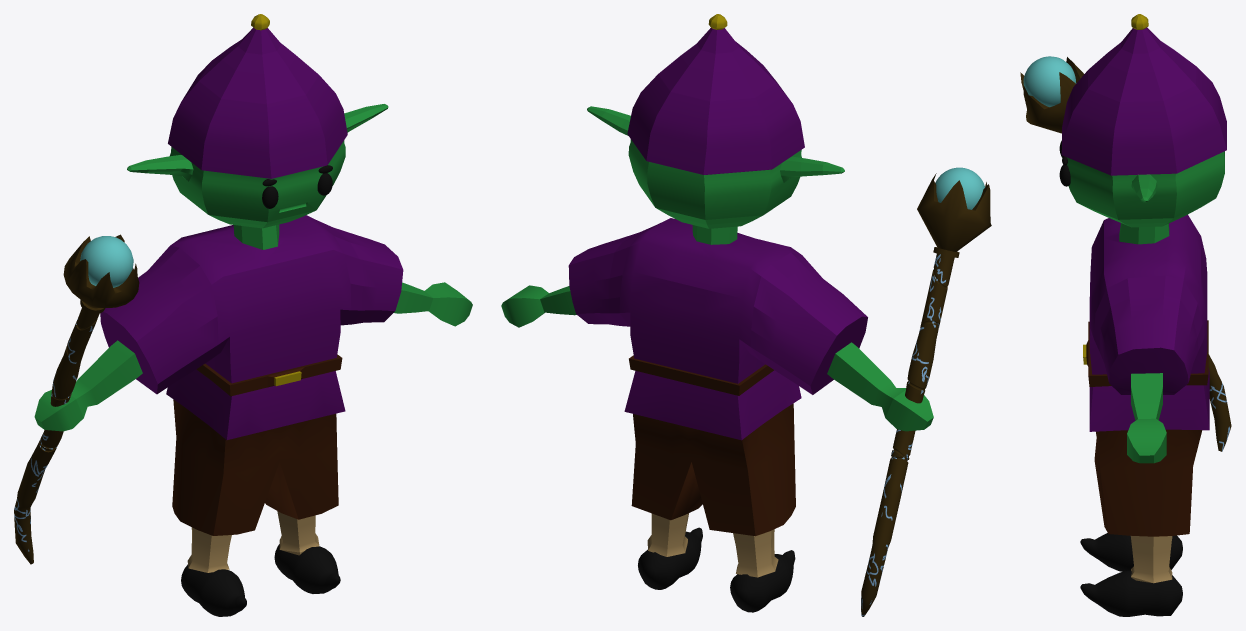
Rendered from Character.fbx.
3 renders of one model, left to right at view 1: azimuth 30°, elevation 25°; view 2: azimuth 150°, elevation 25°; view 3: azimuth 270°, elevation 25°, orthographic.
Visible parts, largest first — view 1: Character2; view 2: Character2; view 3: Character2.
Boxes of the visible parts, x1,y1,x2,y2 form: Character2: (14, 14, 472, 616); Character2: (501, 14, 991, 616); Character2: (1020, 14, 1231, 616).
Bounding box in the file's own units: 6.97 × 8.73 × 2.9.
9 materials, 1 textured.
